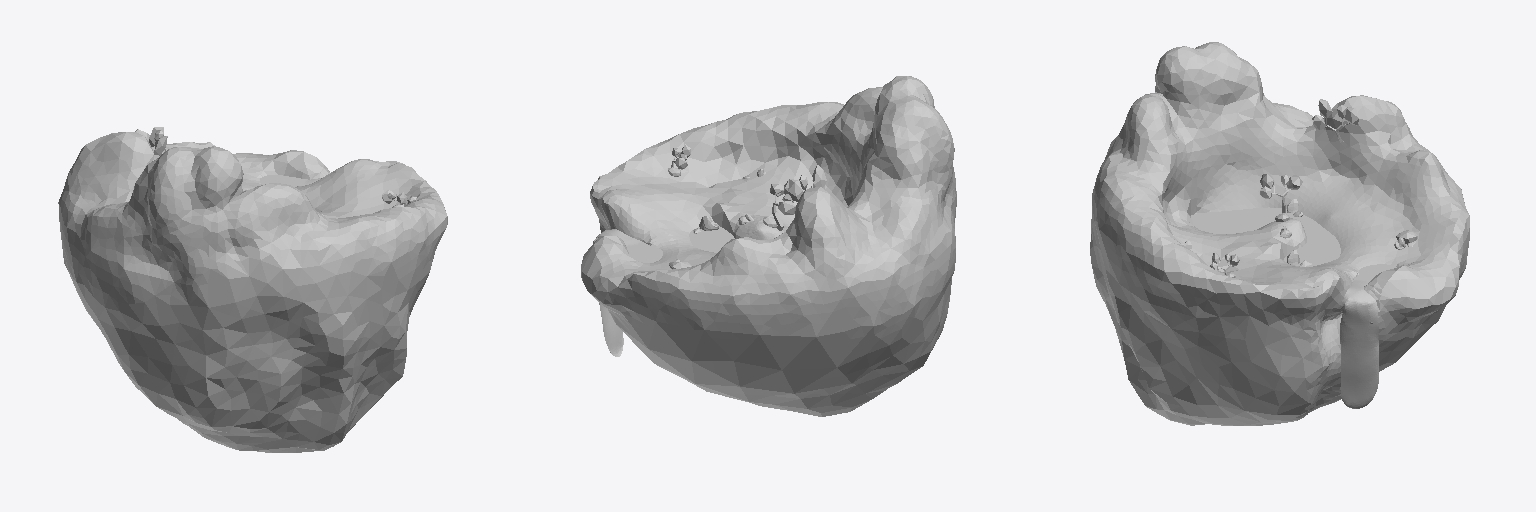
File: Enviroment.obj
3 renders of one model, left to right at view 1: azimuth 30°, elevation 25°; view 2: azimuth 150°, elevation 25°; view 3: azimuth 270°, elevation 25°, orthographic.
Parts seen in each view (by area): view 1: Icosphere; view 2: Icosphere, Plane, Icosphere.001, Icosphere.002; view 3: Icosphere, Plane, Icosphere.002, Sphere, Icosphere.001.
Boxes of the visible parts, <box> form: Icosphere: <box>58,129,447,452</box>; Icosphere: <box>581,76,956,416</box>; Plane: <box>593,226,734,356</box>; Icosphere.001: <box>770,180,795,230</box>; Icosphere.002: <box>788,165,826,201</box>; Icosphere: <box>1090,42,1469,425</box>; Plane: <box>1191,207,1396,408</box>; Icosphere.002: <box>1312,99,1358,147</box>; Sphere: <box>1184,199,1415,266</box>; Icosphere.001: <box>1260,174,1302,212</box>.
Bounding box in the file's own units: 19.67 × 18.78 × 19.66.